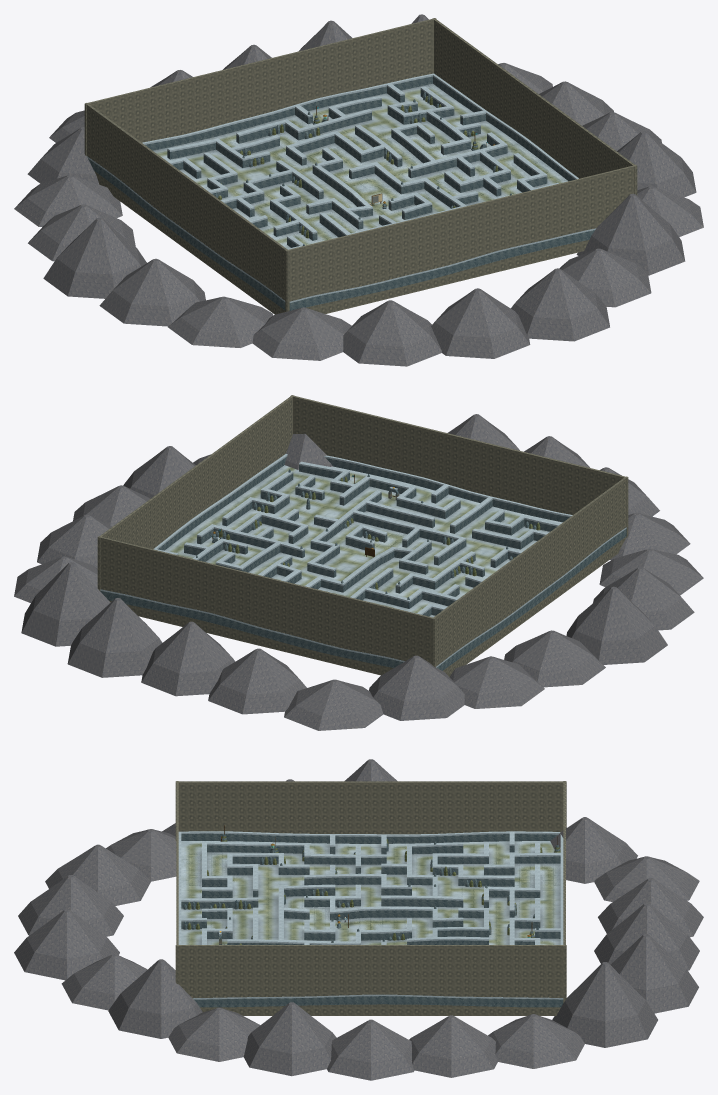
Rendered from Cairnwatch-fb0ab000018e.glb.
3 views of the same model, one above another, from view 1: azimuth 30°, elevation 25°; view 2: azimuth 150°, elevation 25°; view 3: azimuth 270°, elevation 25° (orthographic). The views are drawn at different scales.
Visible parts, largest first — view 1: C_Solids, Horizon, Rim, Terrain, Set; view 2: C_Solids, Horizon, Rim, Terrain, Set; view 3: Horizon, C_Solids, Rim, Terrain, Set.
Boxes of the visible parts, x1,y1,x2,y2 form: C_Solids: (84, 18, 637, 314); Horizon: (14, 14, 703, 366); Rim: (87, 73, 596, 310); Terrain: (153, 83, 567, 248); Set: (214, 92, 511, 245); C_Solids: (97, 395, 628, 676); Horizon: (14, 414, 703, 730); Rim: (100, 454, 626, 670); Terrain: (165, 465, 562, 617); Set: (196, 469, 540, 608); Horizon: (14, 759, 703, 1080); C_Solids: (175, 781, 566, 1015); Rim: (178, 831, 563, 1007); Terrain: (181, 841, 560, 944); Set: (183, 825, 560, 944).
Size of the model in its own units: 211 by 26 by 215.
Materials: 18 (18 with a texture image).
